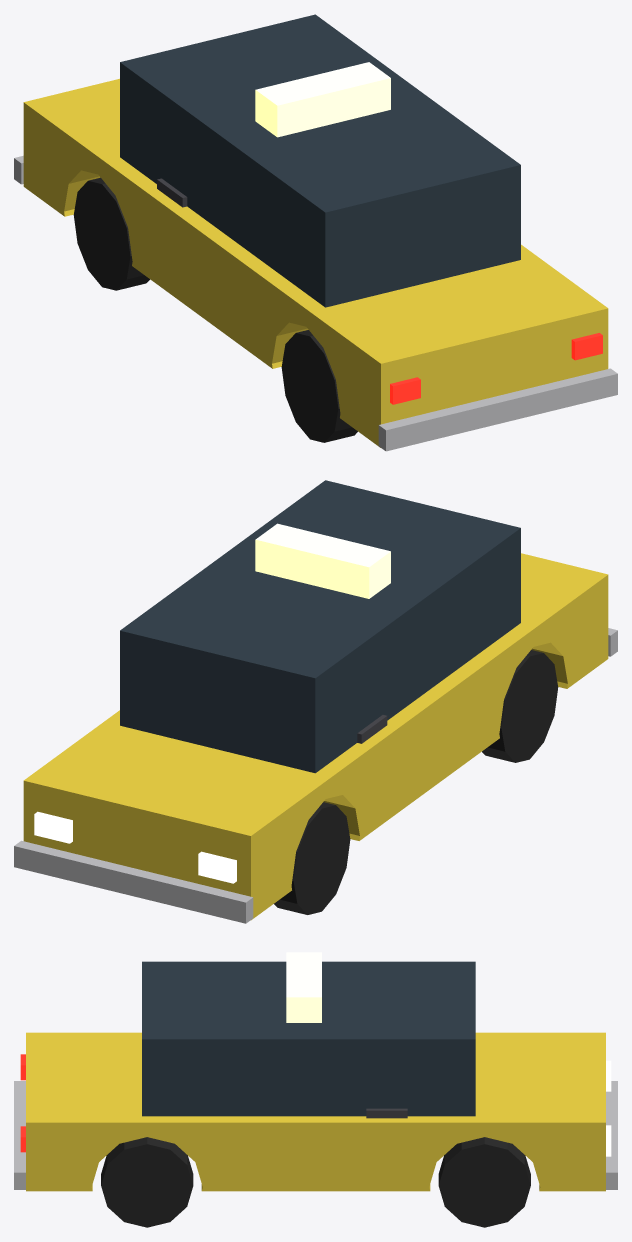
File: taxi.glb
3 views of the same model, one above another, from view 1: azimuth 30°, elevation 25°; view 2: azimuth 150°, elevation 25°; view 3: azimuth 270°, elevation 25° (orthographic). The views are drawn at different scales.
Visible parts, largest first — view 1: cabin, body, bumper_r, sign, WHEEL_FL, WHEEL_RL, taillamp.001, taillamp; view 2: cabin, body, bumper_f, sign, WHEEL_FL, WHEEL_RL, headlamp, headlamp.001; view 3: body, cabin, WHEEL_FR, WHEEL_RR, sign, bumper_r, bumper_f, dashboard.
Boxes of the visible parts, x1,y1,x2,y2 form: cabin: [120, 14, 520, 307]; body: [23, 78, 608, 447]; bumper_r: [378, 368, 617, 451]; sign: [255, 62, 390, 137]; WHEEL_FL: [73, 177, 149, 290]; WHEEL_RL: [281, 330, 357, 442]; taillamp.001: [571, 333, 602, 360]; taillamp: [390, 377, 420, 404]; cabin: [120, 480, 520, 773]; body: [23, 553, 608, 920]; bumper_f: [14, 840, 253, 923]; sign: [255, 523, 390, 598]; WHEEL_FL: [274, 802, 350, 914]; WHEEL_RL: [482, 650, 558, 762]; headlamp: [198, 851, 236, 883]; headlamp.001: [34, 811, 72, 843]; body: [26, 1032, 605, 1191]; cabin: [142, 961, 475, 1116]; WHEEL_FR: [438, 1137, 530, 1227]; WHEEL_RR: [101, 1137, 193, 1227]; sign: [286, 952, 321, 1022]; bumper_r: [14, 1081, 25, 1189]; bumper_f: [606, 1081, 617, 1189]; dashboard: [366, 1108, 407, 1118].
Bounding box in the file's own units: 1.84 × 1.95 × 5.1.
